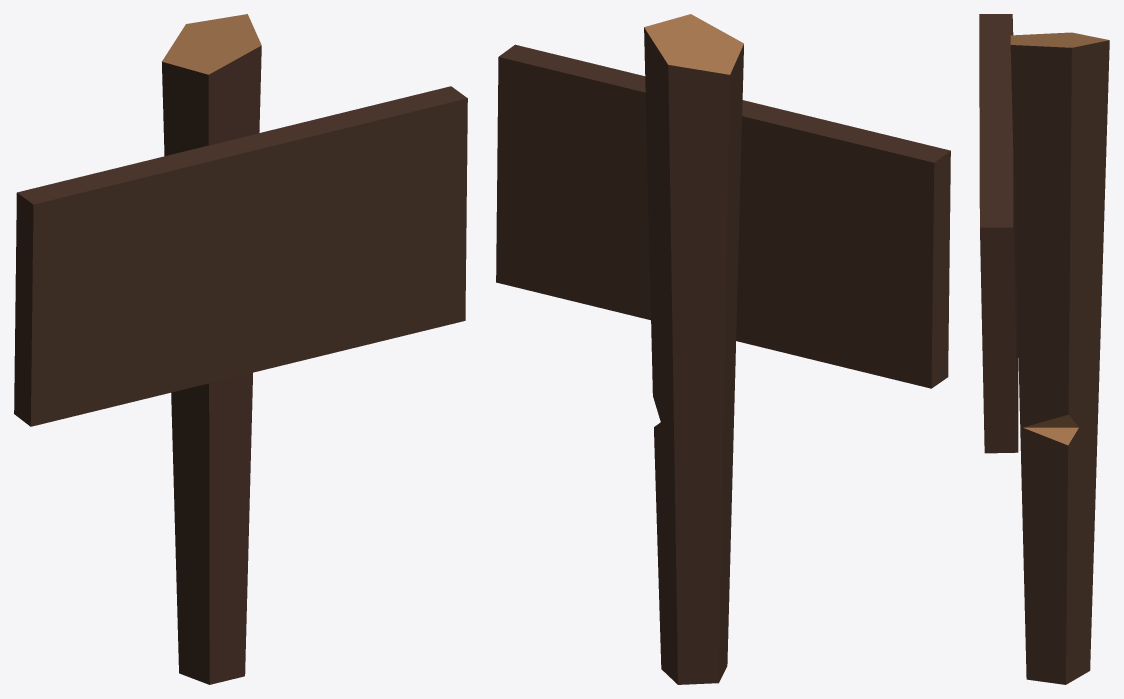
Rendered from sign.fbx.
3 views of the same model, side by side, from view 1: azimuth 30°, elevation 25°; view 2: azimuth 150°, elevation 25°; view 3: azimuth 270°, elevation 25° (orthographic).
Visible parts, largest first — view 1: sign; view 2: sign; view 3: sign.
Boxes of the visible parts, left/top/right/bottom form: sign: left=14, top=14, right=467, bottom=684; sign: left=496, top=14, right=950, bottom=684; sign: left=979, top=14, right=1109, bottom=684.
Bounding box in the file's own units: 60.29 × 84.76 × 15.58.
